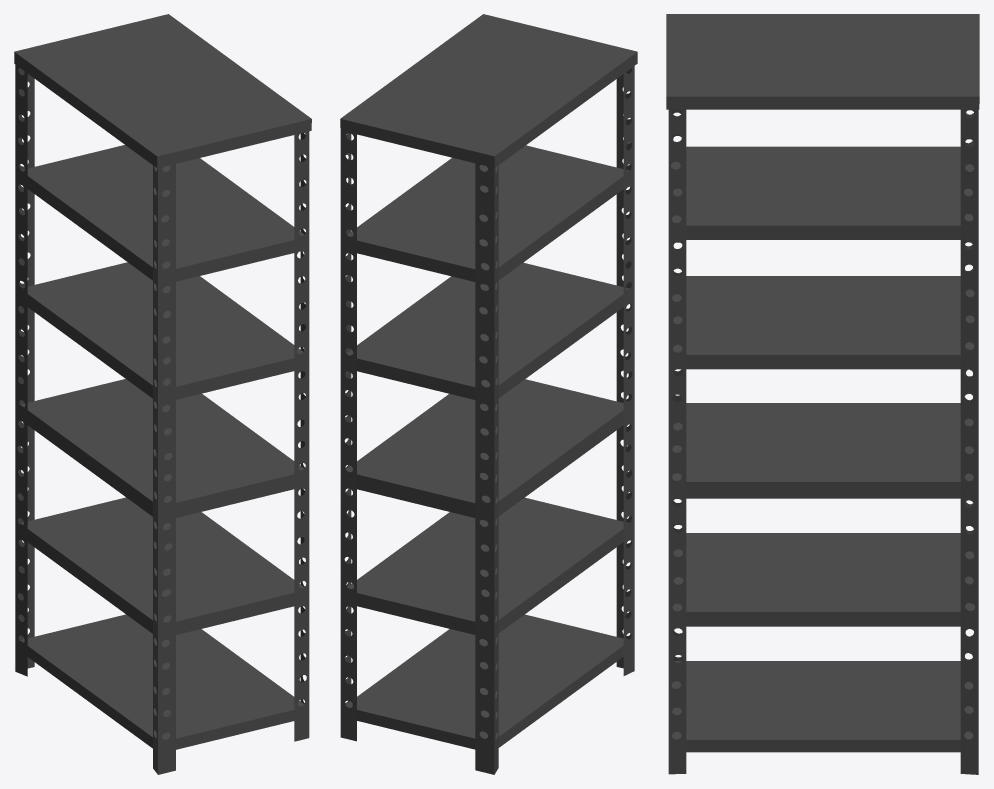
The model's file is ESTANTERIA CONVENCIONAL v1.fbx.
3 views of the same model, side by side, from view 1: azimuth 30°, elevation 25°; view 2: azimuth 150°, elevation 25°; view 3: azimuth 270°, elevation 25° (orthographic). The views are drawn at different scales.
Visible parts, largest first — view 1: estanteria, estanteria.001; view 2: estanteria, estanteria.001; view 3: estanteria, estanteria.001.
Part boxes in pixels (x1,y1,x2,y2): estanteria: [14, 14, 311, 749]; estanteria.001: [15, 65, 309, 774]; estanteria: [340, 14, 637, 749]; estanteria.001: [340, 66, 634, 774]; estanteria: [666, 14, 979, 752]; estanteria.001: [668, 109, 978, 774].
Size of the model in its own units: 10.94 by 41.95 by 17.57.
2 materials, 2 textured.
